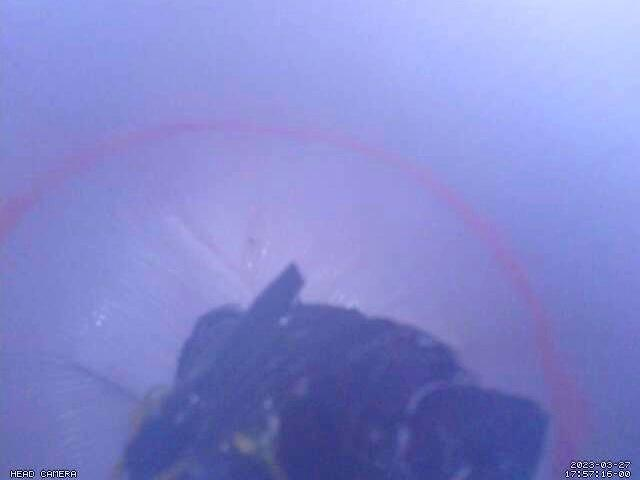head: (0, 119, 580, 478)
